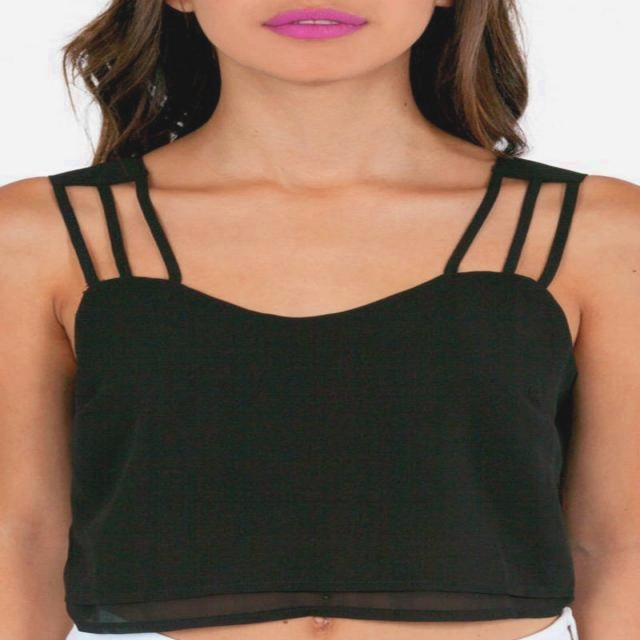Crop_Top: (44, 149, 586, 640)
Sleeveless: (0, 148, 640, 487)
